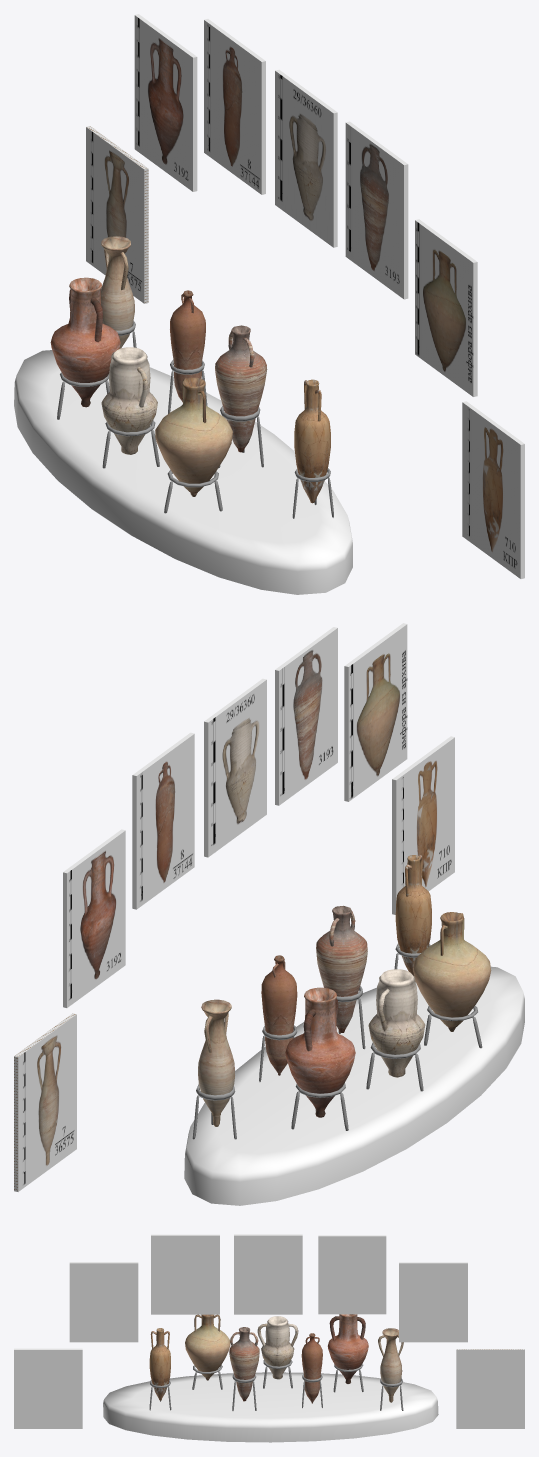
The model's file is 7 amforas.fbx.
The picture shows the model from 3 angles, top to bottom: view 1: azimuth 30°, elevation 25°; view 2: azimuth 150°, elevation 25°; view 3: azimuth 270°, elevation 25°; orthographic projection. The views are drawn at different scales.
Visible parts, largest first — view 1: Stage, Board5, Board2, Board1, Board7, Board4, Board3, Board6, Amfor7, Amfor2, Amfor1, Amfor5 (+3 smaller); view 2: Stage, Board7, Board1, Board5, Board6, Board2, Board3, Board4, Amfor7, Amfor2, Amfor1, Amfor5 (+3 smaller); view 3: Stage, Board7, Board1, Board2, Board4, Board5, Board6, Board3, Amfor7, Amfor2, Amfor1, Amfor5 (+3 smaller).
Boxes of the visible parts, x1,y1,x2,y2 form: Stage: (14, 350, 352, 594); Board5: (345, 121, 408, 299); Board2: (134, 14, 197, 191); Board1: (275, 69, 337, 247); Board7: (415, 219, 477, 396); Board4: (462, 401, 524, 578); Board3: (204, 19, 265, 194); Board6: (86, 126, 148, 303); Amfor7: (155, 377, 232, 496); Amfor2: (50, 277, 120, 407); Amfor1: (101, 347, 157, 454); Amfor5: (215, 325, 267, 452); Stage: (184, 966, 524, 1205); Board7: (344, 623, 407, 801); Board1: (204, 678, 266, 857); Board5: (275, 627, 337, 805); Board6: (14, 1013, 76, 1191); Board2: (63, 829, 125, 1007); Board3: (132, 732, 194, 909); Board4: (392, 736, 454, 914); Amfor7: (413, 912, 491, 1031); Amfor2: (285, 987, 355, 1117); Amfor1: (368, 969, 425, 1077); Amfor5: (316, 905, 367, 1032); Stage: (103, 1372, 438, 1442); Board7: (69, 1262, 138, 1342); Board1: (234, 1234, 302, 1314); Board2: (399, 1262, 467, 1342); Board4: (14, 1348, 82, 1428); Board5: (151, 1234, 219, 1314); Board6: (456, 1349, 524, 1428); Board3: (318, 1235, 386, 1314); Amfor7: (185, 1314, 230, 1380); Amfor2: (327, 1314, 368, 1383); Amfor1: (257, 1316, 298, 1379); Amfor5: (229, 1327, 259, 1401).
Bounding box in the file's own units: 2222 × 3646 × 7789.
Materials: 16 (14 with a texture image).
